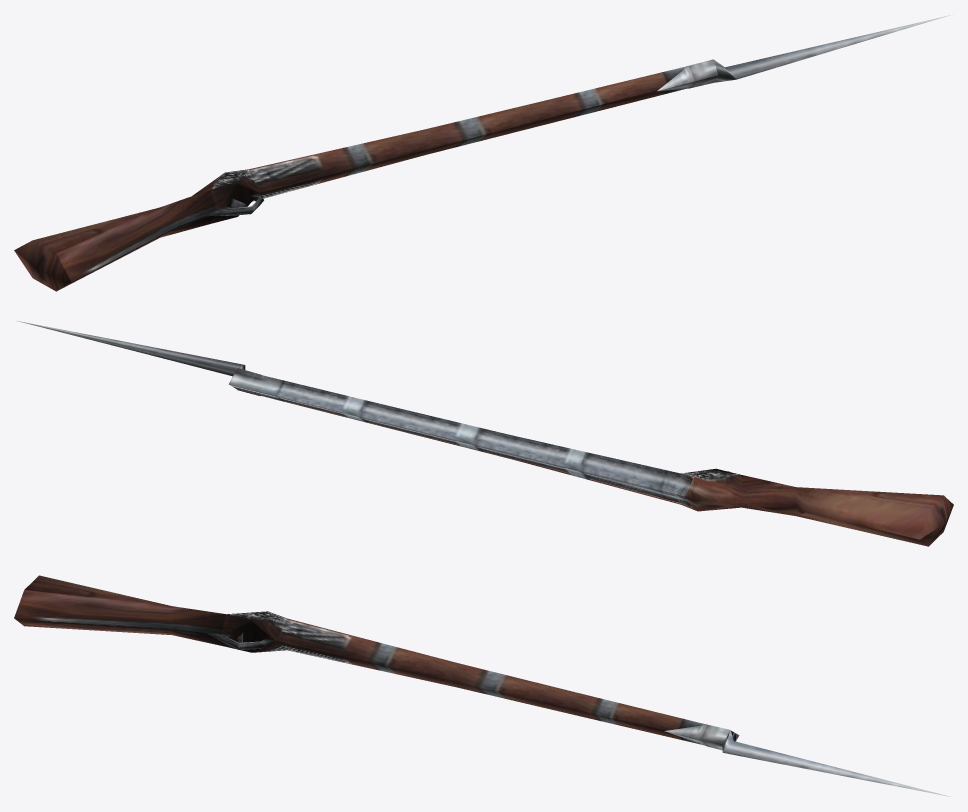
The model's file is pir_m_hnd_gun_musket_b.fbx.
The picture shows the model from 3 angles, top to bottom: view 1: azimuth 30°, elevation 25°; view 2: azimuth 150°, elevation 25°; view 3: azimuth 330°, elevation 25°; orthographic projection. The views are drawn at different scales.
Parts seen in each view (by area): view 1: stock, bayonet; view 2: stock, bayonet; view 3: stock, bayonet.
Boxes of the visible parts, x1,y1,x2,y2 form: stock: (14,66,687,291); bayonet: (657,15,950,91); stock: (229,369,953,546); bayonet: (16,320,260,396); stock: (14,575,739,744); bayonet: (664,724,950,796).
Size of the model in its own units: 557 by 21.54 by 63.91.
Materials: 1 (1 with a texture image).
